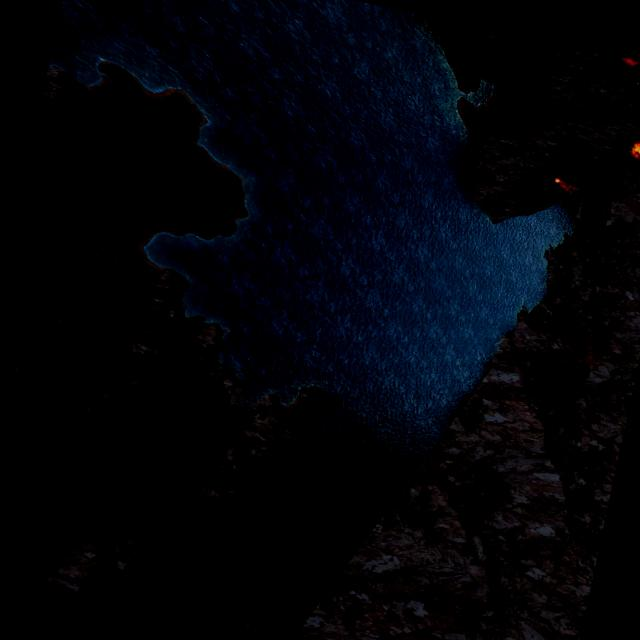fire: (625, 141, 640, 168), (550, 176, 572, 192)
smoke: (625, 63, 640, 155)
